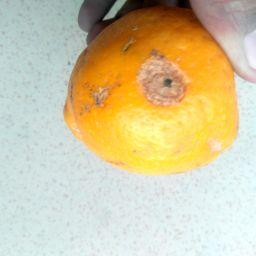orange: (61, 5, 240, 178)
